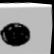correct: (0, 18, 33, 51)
